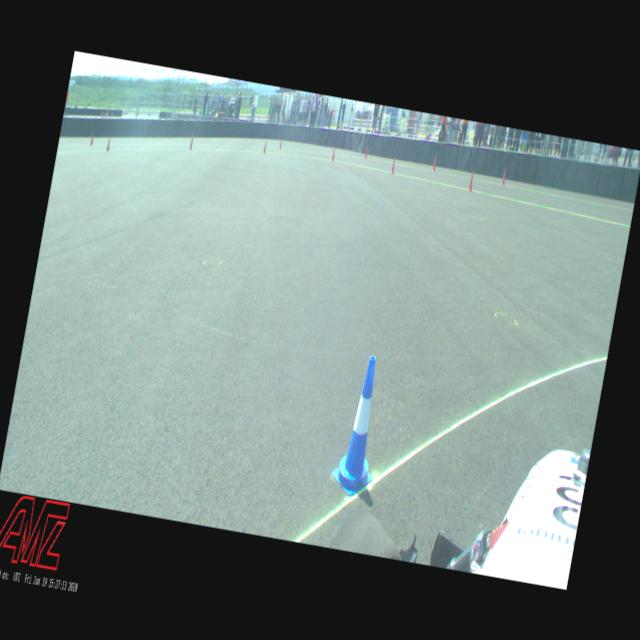blue_cone: (329, 352, 393, 498)
